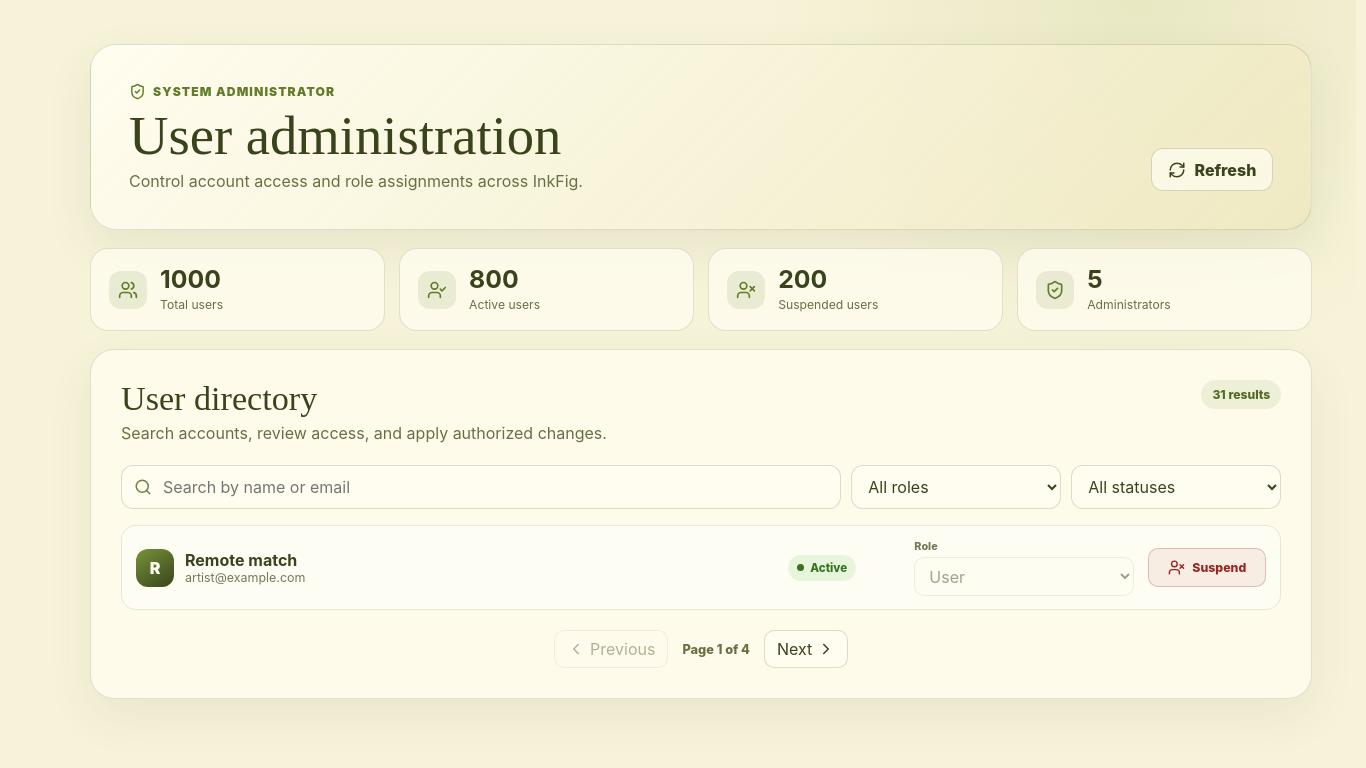
it: refreshes server data and summaries after changing a user rather than filtering the local page
Expected: the text "Remote match" is shown, [185,550,306,570]
Click the button "Suspend" at (1207, 568), box [1148,548,1266,587]
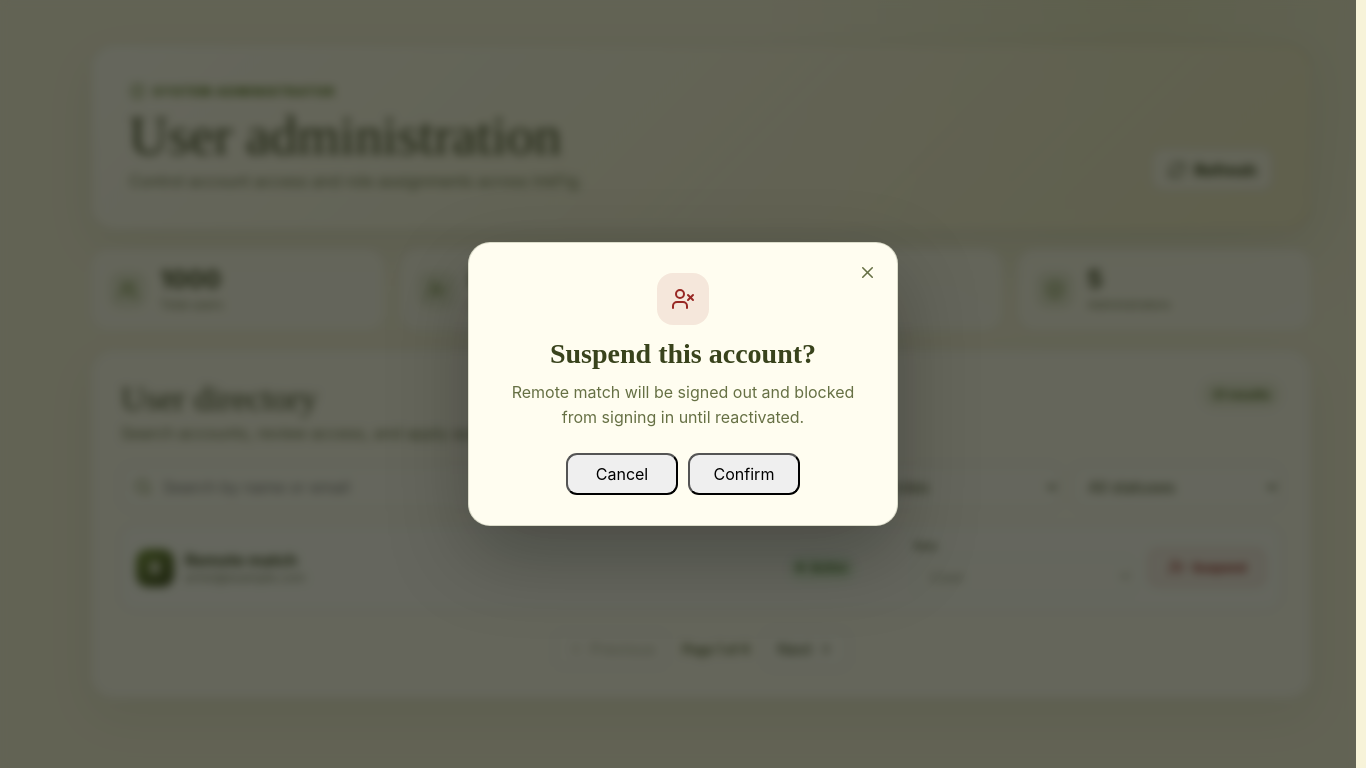
Click the button "Confirm" at (744, 474), box [688,453,800,495]
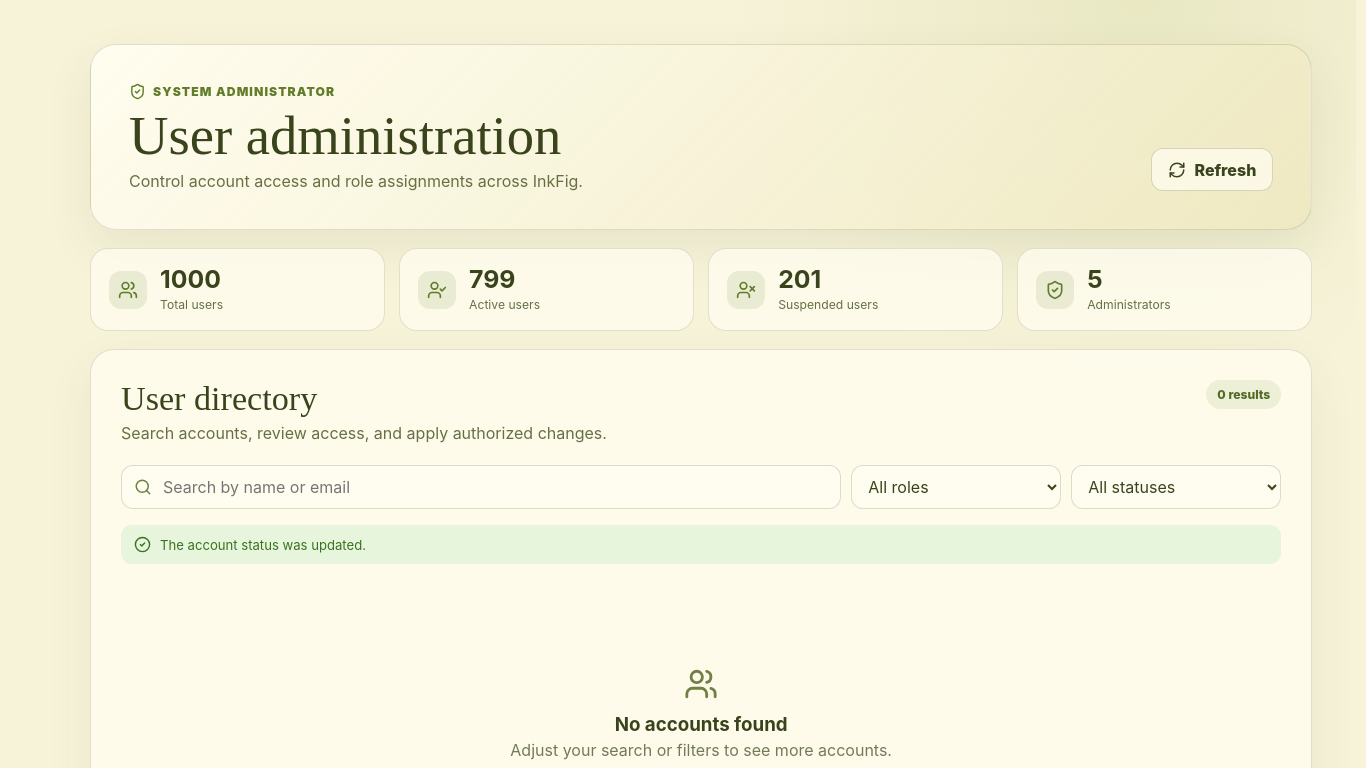
Expected: the text "799" is shown, [469,264,516,294]
